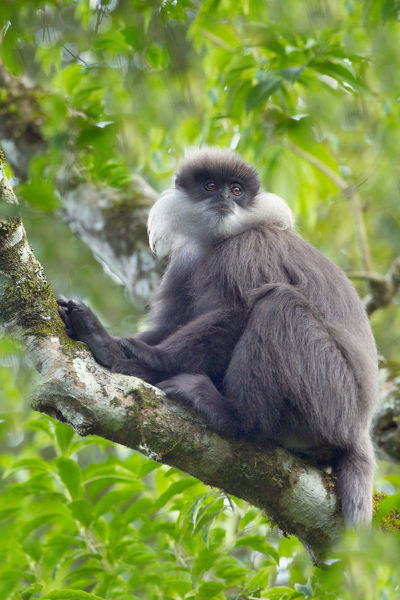Monkey: (53, 134, 392, 539)
